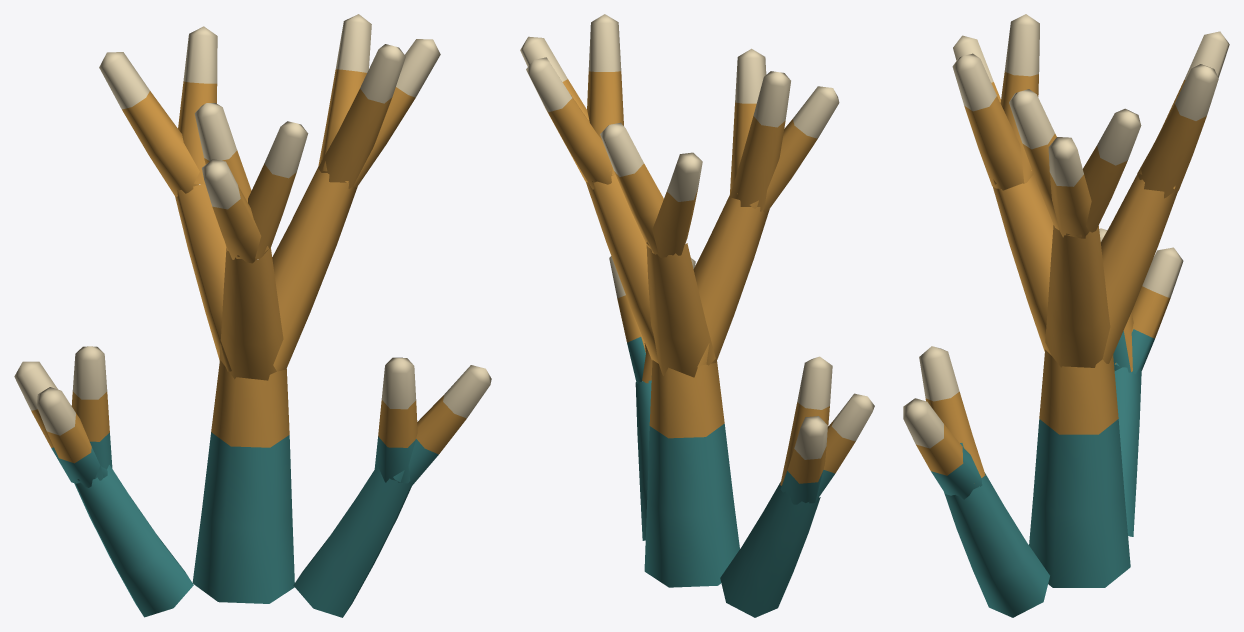
Rendered from prop_coral_staghorn_a.glb.
3 renders of one model, left to right at view 1: azimuth 30°, elevation 25°; view 2: azimuth 150°, elevation 25°; view 3: azimuth 270°, elevation 25°, orthographic. The views are drawn at different scales.
Visible parts, largest first — view 1: prop_coral_staghorn_a_mesh; view 2: prop_coral_staghorn_a_mesh; view 3: prop_coral_staghorn_a_mesh.
Part boxes in pixels (<box>): prop_coral_staghorn_a_mesh: <box>14,14,491,617</box>; prop_coral_staghorn_a_mesh: <box>520,14,874,617</box>; prop_coral_staghorn_a_mesh: <box>903,14,1229,617</box>.
Size of the model in its own units: 0.6485 by 0.8778 by 0.4732.
